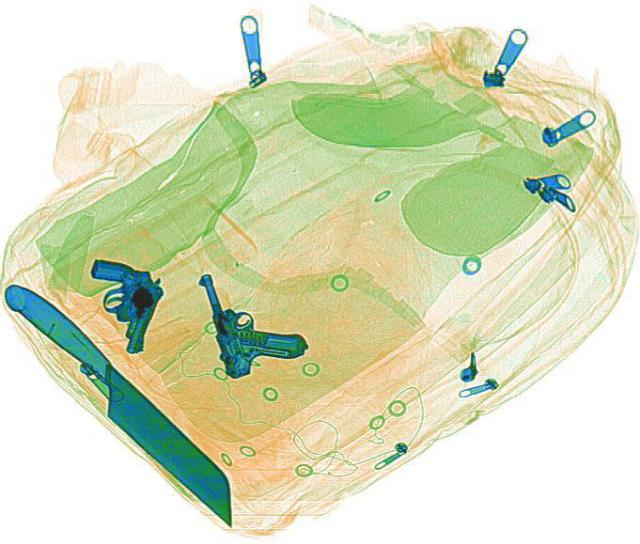Gun: (197, 258, 311, 378), (65, 253, 168, 353)
Knife: (0, 281, 258, 528)
